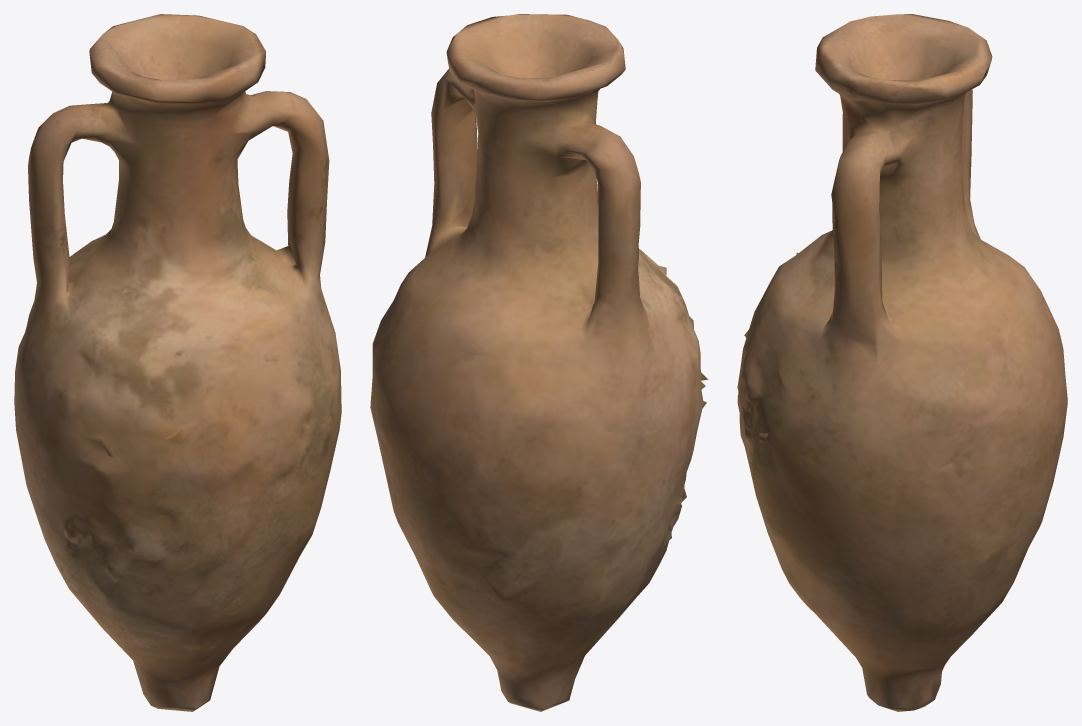
File: amphora.glb
3 renders of one model, left to right at view 1: azimuth 30°, elevation 25°; view 2: azimuth 150°, elevation 25°; view 3: azimuth 270°, elevation 25°, orthographic.
Visible parts, largest first — view 1: tripo_node_b0ab6cf0-af2b-4a6e-8feb-71a4f129dae3; view 2: tripo_node_b0ab6cf0-af2b-4a6e-8feb-71a4f129dae3; view 3: tripo_node_b0ab6cf0-af2b-4a6e-8feb-71a4f129dae3.
Part boxes in pixels (left/top/right/bottom): tripo_node_b0ab6cf0-af2b-4a6e-8feb-71a4f129dae3: left=14, top=14, right=341, bottom=711; tripo_node_b0ab6cf0-af2b-4a6e-8feb-71a4f129dae3: left=370, top=14, right=708, bottom=711; tripo_node_b0ab6cf0-af2b-4a6e-8feb-71a4f129dae3: left=737, top=14, right=1067, bottom=711.
Bounding box in the file's own units: 0.4472 × 0.9788 × 0.4493.
1 material, 1 textured.
